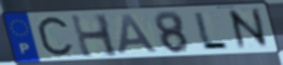8: (153, 10, 191, 55)
A: (116, 13, 162, 56)
C: (35, 14, 77, 61)
H: (68, 13, 122, 60)
L: (192, 10, 231, 50)
N: (225, 6, 273, 52)
